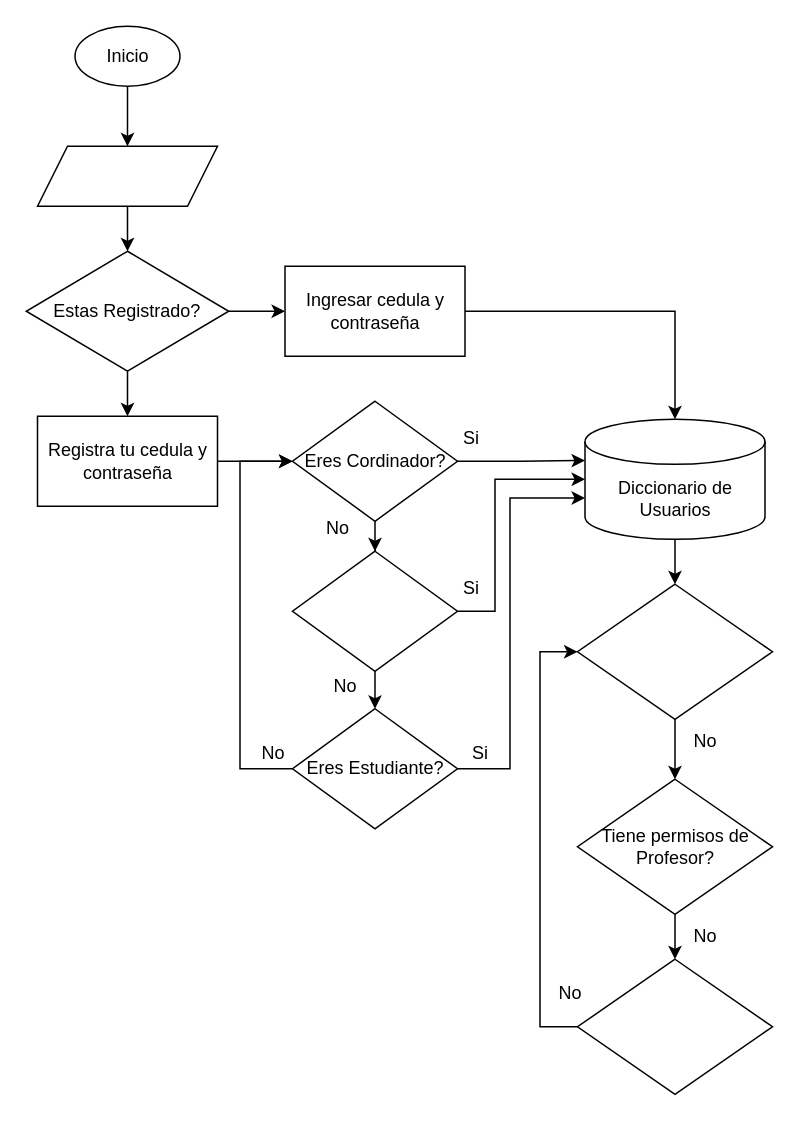
The diagram is 800 pixels wide and 1121 high, and some of its shapes have lost their labels. The centre of each missing label's shape, as x and y in pixels:
Eres Profesor?: point (374, 610)
Ingresar: point (127, 175)
Tiene permisos de Cordinador?: point (674, 651)
Tiene permisos de Estudiante?: point (674, 1026)
